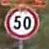limite 50: (2, 4, 40, 40)
